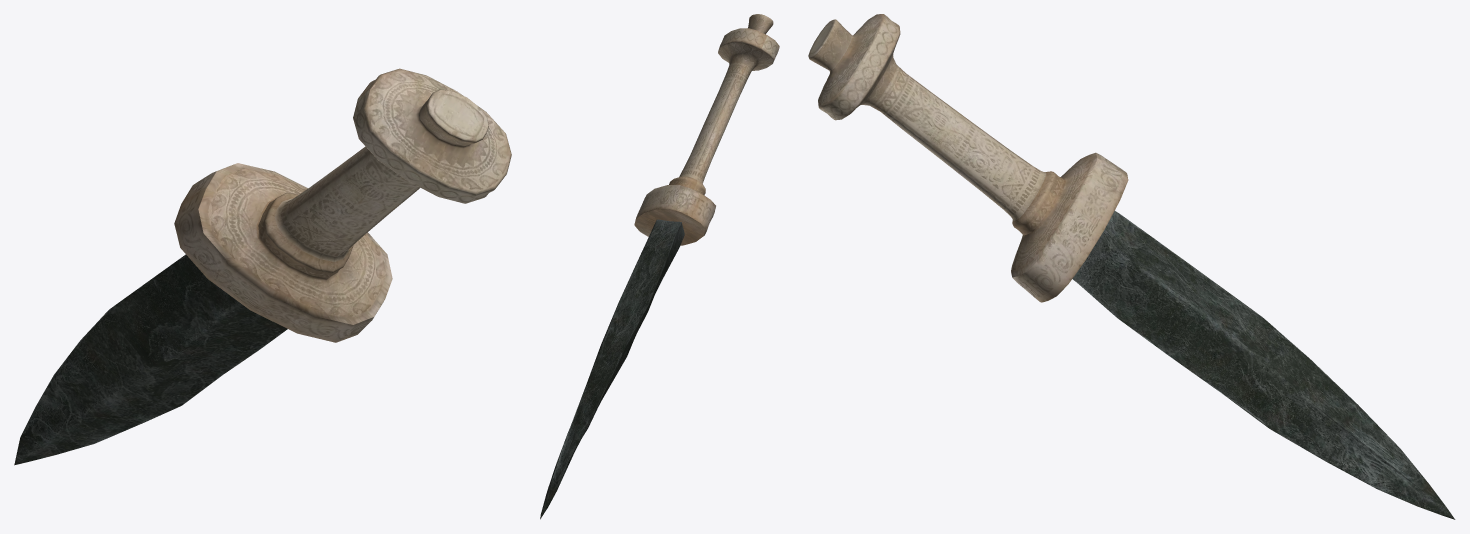
File: obsidian_knife.glb
3 renders of one model, left to right at view 1: azimuth 30°, elevation 25°; view 2: azimuth 150°, elevation 25°; view 3: azimuth 270°, elevation 25°, orthographic. The views are drawn at different scales.
Parts seen in each view (by area): view 1: C_O_knife_low_obj_0; view 2: C_O_knife_low_obj_0; view 3: C_O_knife_low_obj_0.
Boxes of the visible parts, x1,y1,x2,y2 form: C_O_knife_low_obj_0: (14, 68, 511, 465); C_O_knife_low_obj_0: (540, 14, 779, 519); C_O_knife_low_obj_0: (808, 14, 1455, 519).
Size of the model in its own units: 0.3054 by 1.21 by 1.43.
Materials: 1 (1 with a texture image).
